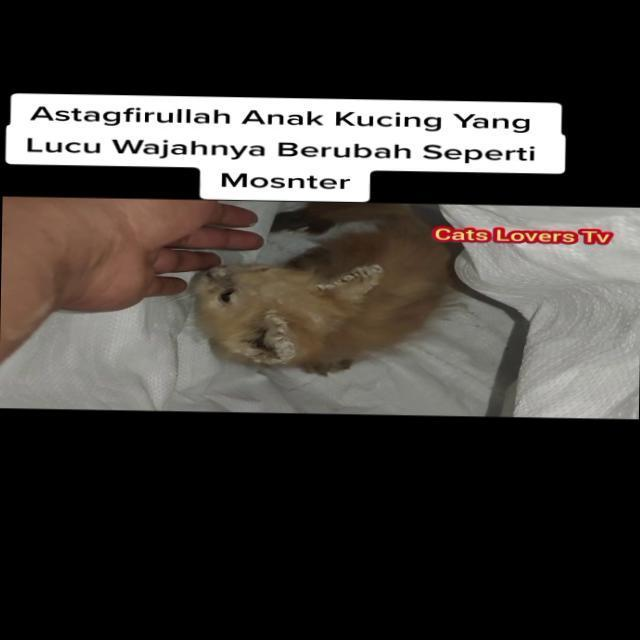ghe: (223, 301, 312, 367), (308, 255, 402, 310)
